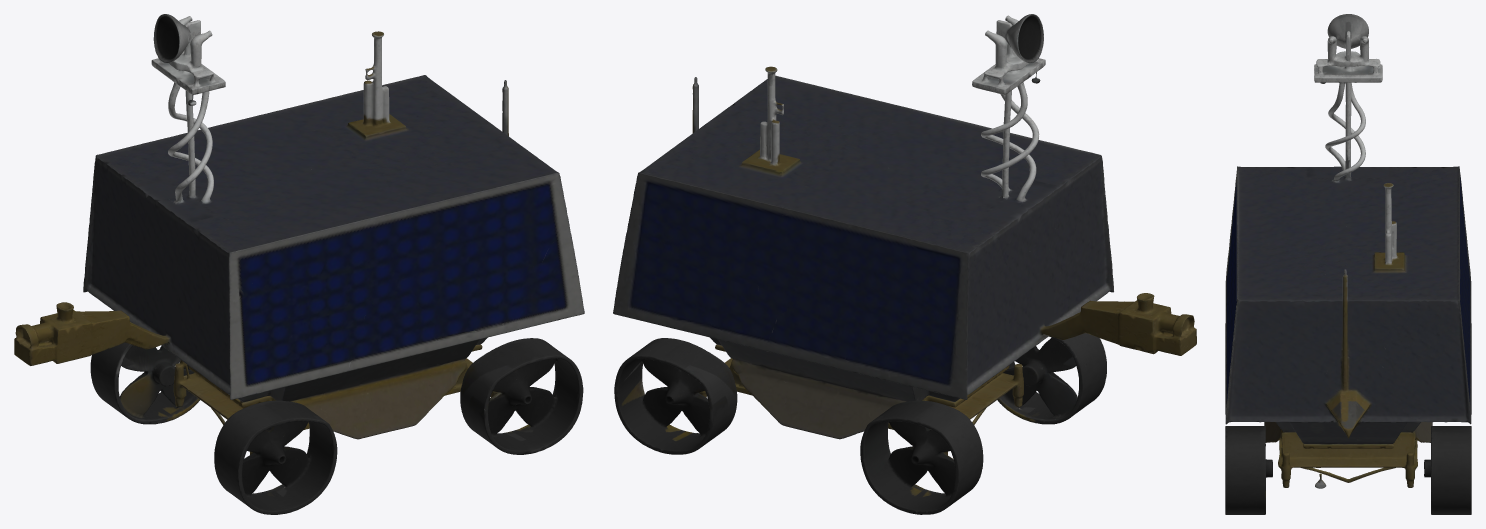
The model's file is viper-rover-textured.glb.
The picture shows the model from 3 angles, left to right: view 1: azimuth 30°, elevation 25°; view 2: azimuth 150°, elevation 25°; view 3: azimuth 270°, elevation 25°; orthographic projection. The views are drawn at different scales.
Parts seen in each view (by area): view 1: rover_body, wheel_rl, wheel_fl, wheel_rr; view 2: rover_body, wheel_fr, wheel_rr, wheel_rl; view 3: rover_body, wheel_fl, wheel_fr.
Part boxes in pixels (box(x1,y1,x2,y2)): rover_body: box(14, 14, 584, 454); wheel_rl: box(214, 400, 337, 514); wheel_fl: box(460, 338, 583, 454); wheel_rr: box(90, 342, 199, 424); rover_body: box(613, 14, 1196, 455); wheel_fr: box(614, 338, 737, 454); wheel_rr: box(860, 400, 983, 514); wheel_rl: box(997, 333, 1106, 424); rover_body: box(1225, 14, 1471, 488); wheel_fl: box(1225, 426, 1272, 514); wheel_fr: box(1424, 426, 1471, 514).
Size of the model in its own units: 1.84 by 1.46 by 0.8639.
1 material, 1 textured.
